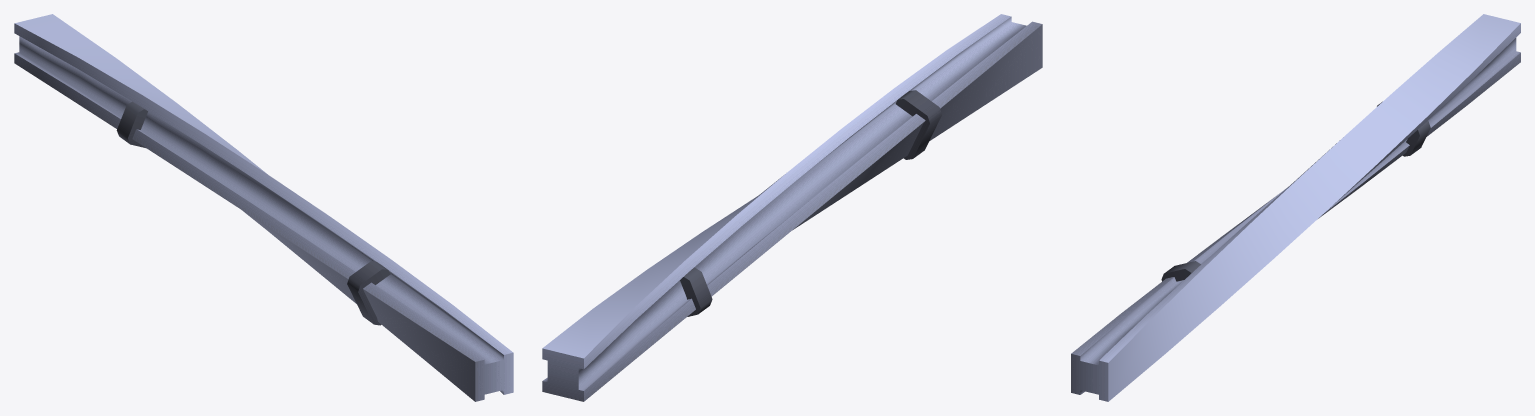
The model's file is coaster-monorail-straight-skew-left-side.glb.
The picture shows the model from 3 angles, left to right: view 1: azimuth 30°, elevation 25°; view 2: azimuth 150°, elevation 25°; view 3: azimuth 330°, elevation 25°; orthographic projection. The views are drawn at different scales.
Parts seen in each view (by area): view 1: coaster-monorail-straight-skew-left-side; view 2: coaster-monorail-straight-skew-left-side; view 3: coaster-monorail-straight-skew-left-side.
Boxes of the visible parts, bbox=[...] form: coaster-monorail-straight-skew-left-side: bbox=[14, 14, 513, 401]; coaster-monorail-straight-skew-left-side: bbox=[542, 14, 1042, 401]; coaster-monorail-straight-skew-left-side: bbox=[1071, 14, 1520, 401].
Size of the model in its own units: 0.3372 by 0.3372 by 4.
1 material, 1 textured.
